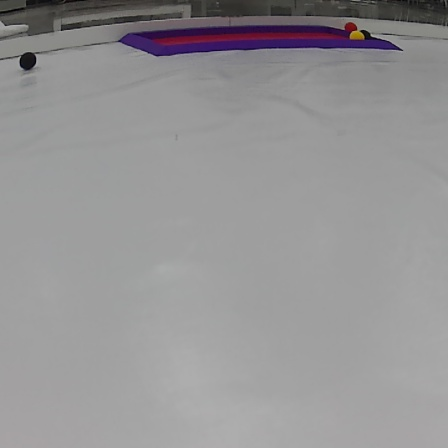black: (17, 51, 38, 70), (362, 27, 373, 38)
red: (345, 20, 356, 31)
red_aim: (118, 26, 407, 58)
yellow: (349, 31, 362, 44)
